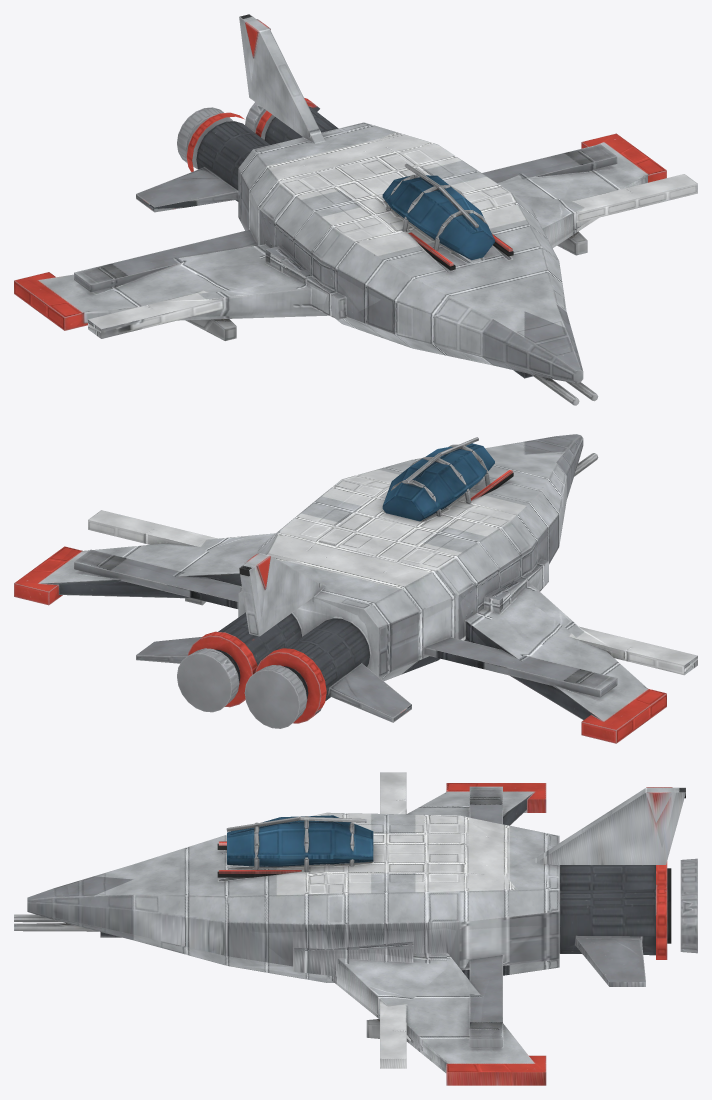
The model's file is sd_ship_sahin.glb.
3 views of the same model, one above another, from view 1: azimuth 30°, elevation 25°; view 2: azimuth 150°, elevation 25°; view 3: azimuth 270°, elevation 25° (orthographic).
Visible parts, largest first — view 1: LOD0_body, LOD1_body; view 2: LOD0_body, LOD1_body; view 3: LOD0_body, LOD1_body.
Boxes of the visible parts, x1,y1,x2,y2 form: LOD0_body: [14, 14, 697, 405]; LOD1_body: [28, 15, 657, 385]; LOD0_body: [14, 434, 697, 743]; LOD1_body: [41, 436, 648, 724]; LOD0_body: [14, 772, 697, 1085]; LOD1_body: [54, 786, 685, 1069].
Bounding box in the file's own units: 1 × 0.2675 × 1.
1 material, 1 textured.
